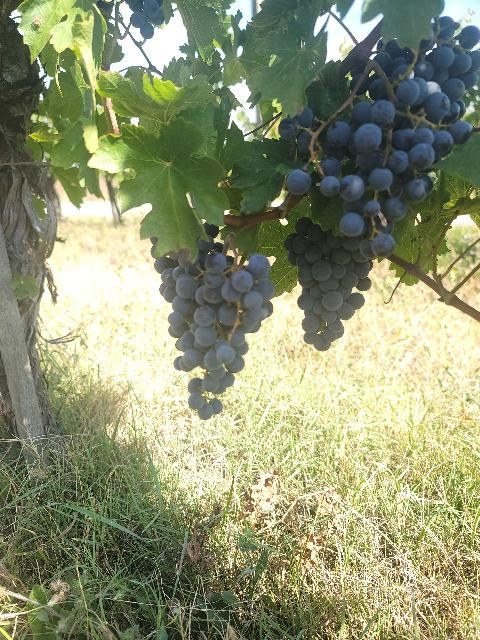grapes: (321, 38, 480, 220), (155, 222, 275, 419), (284, 218, 375, 351)
